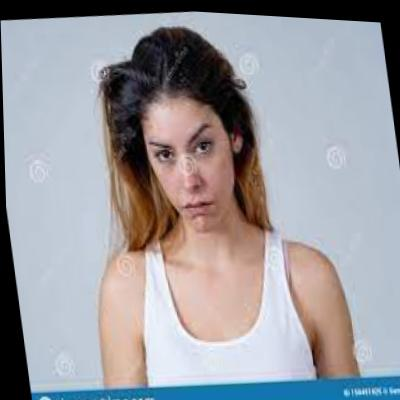angry: (135, 73, 254, 233)
